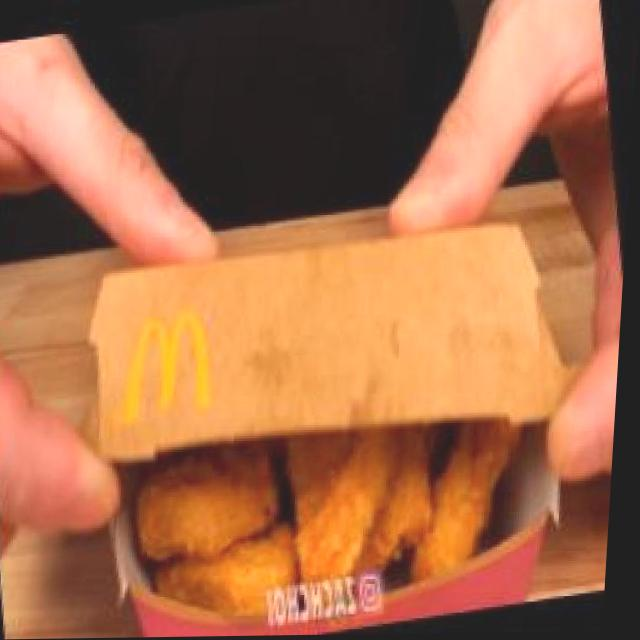nugget: (117, 403, 556, 638)
